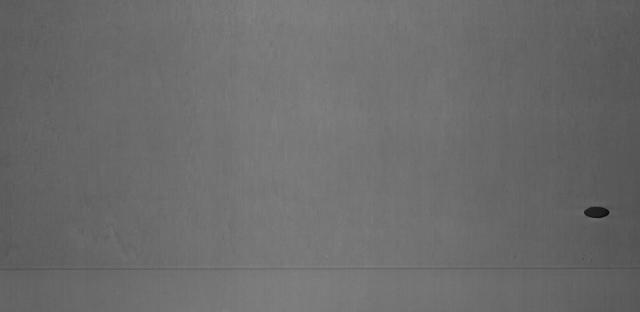punching_hole: (577, 202, 615, 224)
welding_line: (1, 258, 640, 280)
